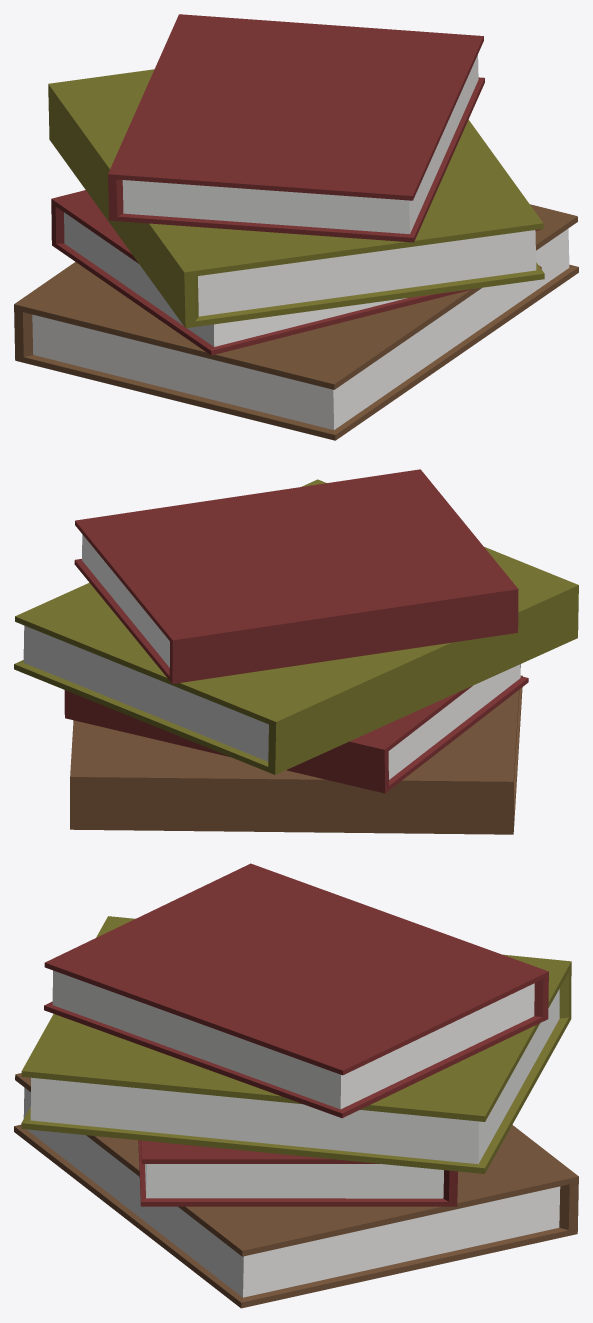
The model's file is Books_11.fbx.
The picture shows the model from 3 angles, top to bottom: view 1: azimuth 30°, elevation 25°; view 2: azimuth 150°, elevation 25°; view 3: azimuth 270°, elevation 25°; orthographic projection. The views are drawn at different scales.
Visible parts, largest first — view 1: Books_11; view 2: Books_11; view 3: Books_11.
Part boxes in pixels (box(x1,y1,x2,y2)): Books_11: box(14, 14, 578, 440); Books_11: box(14, 469, 578, 834); Books_11: box(14, 863, 578, 1308).
Size of the model in its own units: 45.81 by 43.03 by 18.34.
